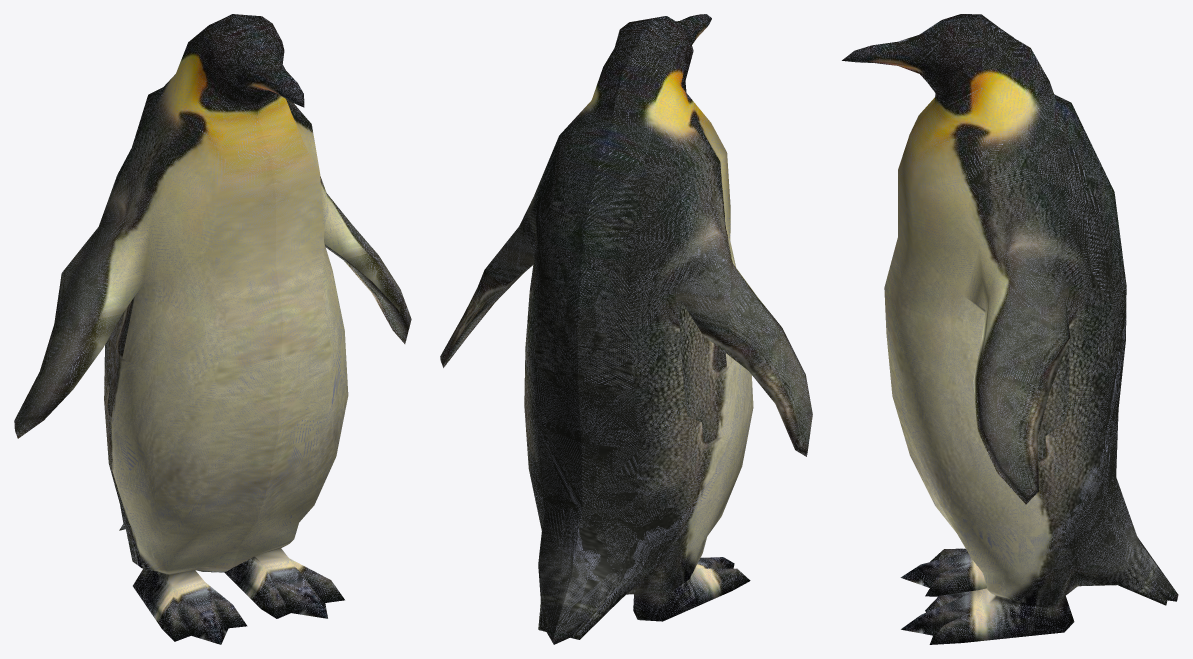
The model's file is penguin.dae.
3 renders of one model, left to right at view 1: azimuth 30°, elevation 25°; view 2: azimuth 150°, elevation 25°; view 3: azimuth 270°, elevation 25°, orthographic. The views are drawn at different scales.
Parts seen in each view (by area): view 1: Penguin (×2); view 2: Penguin (×2); view 3: Penguin (×2).
Boxes of the visible parts, box(x1,y1,x2,y2) form: Penguin (×2): box(14, 14, 411, 644); Penguin (×2): box(440, 14, 812, 644); Penguin (×2): box(842, 14, 1178, 644).
Bounding box in the file's own units: 26.54 × 19.91 × 38.14.
Materials: 2 (1 with a texture image).
